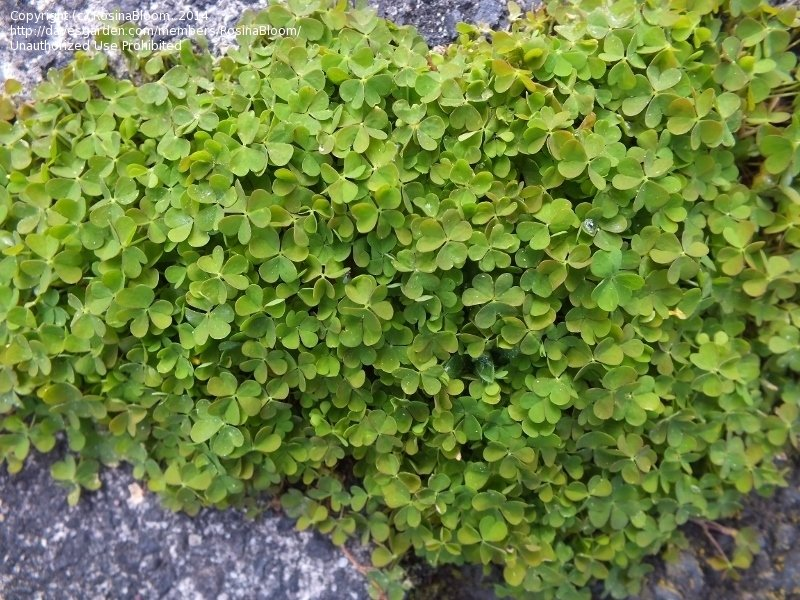oxalis: (10, 79, 800, 583)
